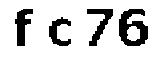6: (118, 6, 151, 49)
7: (82, 6, 114, 50)
c: (47, 17, 75, 49)
f: (12, 7, 38, 49)
